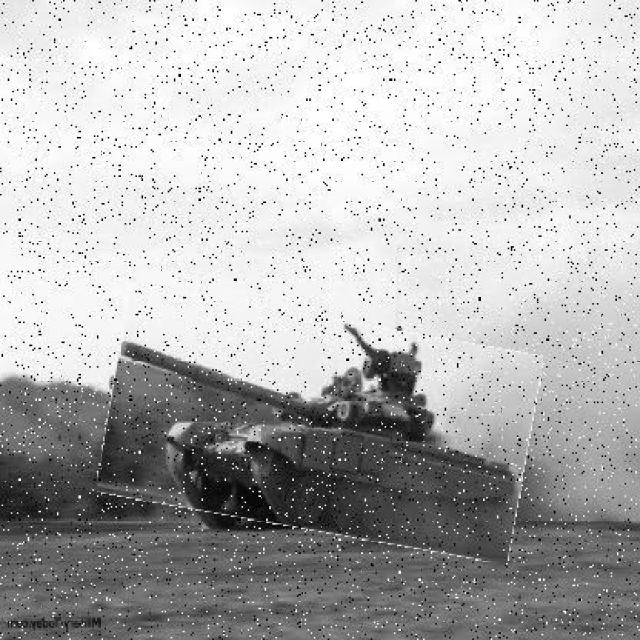Tank: (103, 303, 537, 547)
